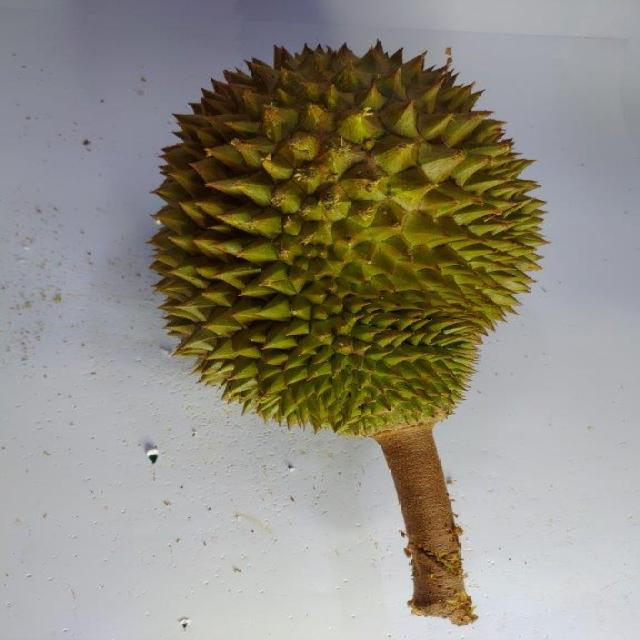immature: (148, 35, 558, 440)
